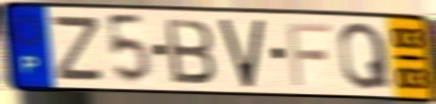5: (103, 11, 155, 89)
B: (162, 16, 219, 86)
F: (284, 20, 334, 89)
Q: (336, 20, 394, 92)
V: (217, 17, 267, 90)
Z: (51, 14, 106, 84)
